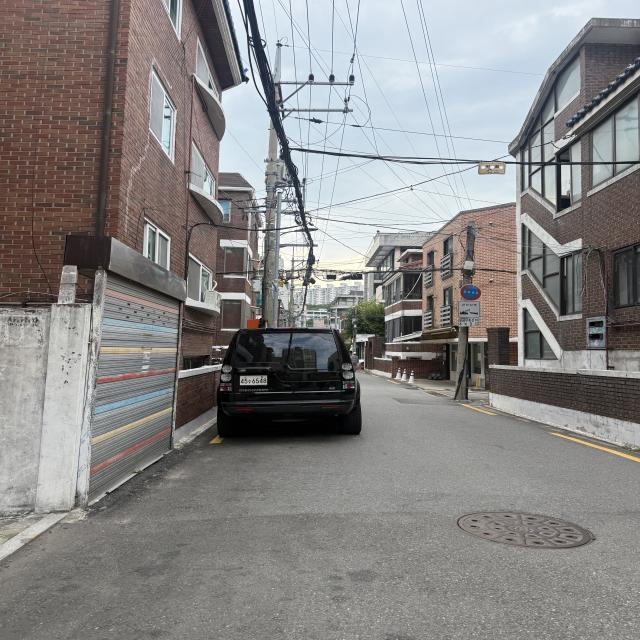car: (202, 310, 380, 454)
